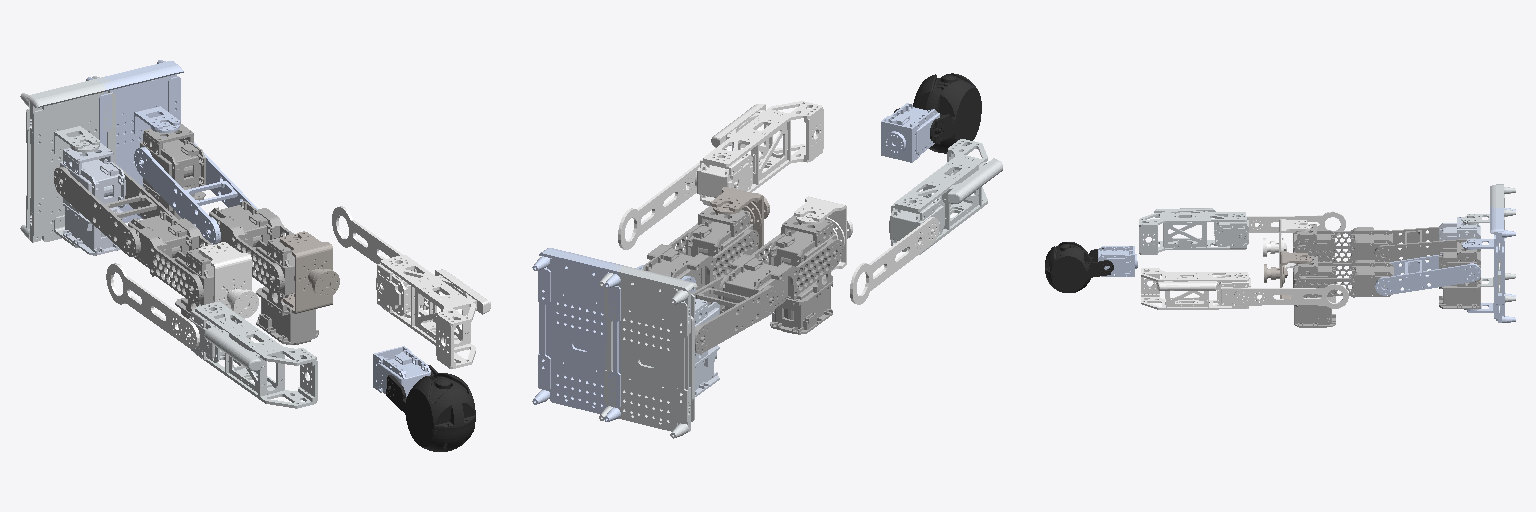
--- What the picture shows (computed from the rendered views, not written in the file) ---
3 views of the same robot in one strip: view 1: azimuth 30°, elevation 25°; view 2: azimuth 150°, elevation 25°; view 3: azimuth 270°, elevation 25° (orthographic).
Model dancer_urdf_model with 19 links and 18 joints (18 continuous), rooted at body_chest, posed all joints at 0.
Links seen in each view (by area): view 1: foot2_right, arm_left, arm_right, foot2_left, body_head2, foot1_right, leg_right, leg2_right, leg2_left, leg_left, body_hip2_left, body_hip_left (+6 smaller); view 2: foot2_right, foot2_left, arm_left, arm_right, body_hip2_right, leg_right, body_head2, leg2_right, leg_left, body_head, hand_right, body_hip2_left (+4 smaller); view 3: arm_right, arm_left, leg2_left, body_head2, foot2_left, leg_left, leg2_right, foot1_left, body_hip2_left, leg_right, hand_left, foot2_right (+6 smaller).
Boxes of the visible links, left/top/right/bottom form: foot2_right: left=20, top=76, right=115, bottom=247; arm_left: left=376, top=255, right=490, bottom=368; arm_right: left=189, top=302, right=317, bottom=408; foot2_left: left=86, top=60, right=183, bottom=222; body_head2: left=386, top=365, right=475, bottom=451; foot1_right: left=60, top=143, right=125, bottom=255; leg_right: left=128, top=212, right=212, bottom=302; leg2_right: left=54, top=162, right=177, bottom=256; leg2_left: left=134, top=142, right=257, bottom=244; leg_left: left=209, top=201, right=293, bottom=292; body_hip2_left: left=256, top=233, right=318, bottom=344; body_hip_left: left=280, top=231, right=339, bottom=313; foot2_right: left=599, top=264, right=697, bottom=438; foot2_left: left=532, top=248, right=625, bottom=421; arm_left: left=697, top=101, right=823, bottom=205; arm_right: left=889, top=139, right=1002, bottom=254; body_hip2_right: left=769, top=215, right=835, bottom=334; leg_right: left=723, top=233, right=841, bottom=310; body_head2: left=894, top=73, right=981, bottom=153; leg2_right: left=691, top=275, right=778, bottom=353; leg_left: left=642, top=223, right=758, bottom=289; body_head: left=881, top=103, right=939, bottom=162; hand_right: left=850, top=217, right=938, bottom=304; body_hip2_left: left=686, top=206, right=752, bottom=313; arm_right: left=1139, top=208, right=1248, bottom=254; arm_left: left=1141, top=268, right=1250, bottom=309; leg2_left: left=1375, top=254, right=1480, bottom=295; body_head2: left=1045, top=242, right=1113, bottom=292; foot2_left: left=1462, top=206, right=1515, bottom=322; leg_left: left=1294, top=260, right=1393, bottom=297; leg2_right: left=1374, top=227, right=1480, bottom=261; foot1_left: left=1439, top=242, right=1480, bottom=308; body_hip2_left: left=1294, top=256, right=1335, bottom=327; leg_right: left=1293, top=227, right=1392, bottom=262; hand_left: left=1234, top=284, right=1348, bottom=308; foot2_right: left=1462, top=184, right=1515, bottom=302.
Size in the robot's own frame: 0.2718 by 0.692 by 0.1687 metres.
18 mesh visuals loaded from 19 distinct referenced files (18 binary STL); not drawn: 1 (reference not matched to a file when rendering).

URDF robot description (dancer_urdf_model):
<?xml version = "1.0" encoding="utf-8"?>
<robot
  name="dancer_urdf_model">
<!-- root link -->
  <!-- <link 
    name="world_link">
  </link>
  <joint
    name="joint_world" 
    type="continuous">
    <parent 
      link="world_link"/>
    <child 
      link="body_chest"/>
    <axis
      xyz="0 0 1" />
  </joint> -->
<!-- body -->
  <link
    name="body_chest">
    <inertial>
      <!-- <origin
        xyz="-0.39529 -0.25795 -0.0041722"
        rpy="0 0 0" />
      <mass
        value="0.66907" /> -->
      <!-- <inertia
        ixx="0.0010789"
        ixy="-2.1492E-06"
        ixz="-1.1578E-06"
        iyy="0.0012519"
        iyz="0.00017837"
        izz="0.0014192" /> -->
      <!-- <inertia
        ixx="0.001448202015"
        ixy="0"
        ixz="0"
        iyy="0.000913481271"
        iyz="0"
        izz="0.001648722294" /> -->
      <origin
        xyz="-0.616313494681162 -0.215606025502619 0.218328112191186"
        rpy="0 0 0" />
      <!-- <mass
        value="0.882484739618511" /> -->
      <mass
        value="0.088248473961851" />
      <inertia
        ixx="0.00046279697033304"
        ixy="-1.29208732985506E-06"
        ixz="3.13480143442607E-08"
        iyy="0.000569939112981271"
        iyz="-3.23018574616647E-06"
        izz="0.000627101614709985" />
    </inertial>
    <visual>
      <origin
        xyz="0 0 0"
        rpy="0 0 0" />
      <geometry>
        <mesh
          filename="./meshes/body_chest.STL" />
      </geometry>
      <material
        name="">
        <color
          rgba="0.75288 0.75288 0.75288 1" />
      </material>
    </visual>
    <collision>
      <origin
        xyz="0 0 0"
        rpy="0 0 0" />
      <geometry>
        <mesh
          filename="./meshes/body_chest.STL" />
      </geometry>
    </collision>
  </link>
  <link
    name="body_head">
    <inertial>
      <!-- <origin
        xyz="-0.000351851554432403 -0.0159432418124996 -6.20136945961303E-09"
        rpy="0 0 0" />
      <mass
        value="0.0560380421735799" /> -->
      <!-- <inertia
        ixx="6.80542660516315E-06"
        ixy="2.52790190769969E-07"
        ixz="2.16353945279601E-13"
        iyy="1.50295053154063E-06"
        iyz="1.49161003758429E-12"
        izz="8.30837713670273E-06" /> -->
      <!-- <inertia
        ixx="1.7946036e-05"
        ixy="0"
        ixz="0"
        iyy="1.471574952e-05"
        iyz="0"
        izz="1.471574952e-05" /> -->
      <origin
        xyz="0.000414526290536621 5.46344108842689E-09 0.032686211294751"
        rpy="0 0 0" />
      <mass
        value="0.05496" />
      <inertia
        ixx="1.15560765805171E-05"
        ixy="-6.37698448820114E-12"
        ixz="8.72982482484381E-08"
        iyy="1.38245262746023E-05"
        iyz="-6.32904633697489E-12"
        izz="1.00312989309914E-05" />
    </inertial>
    <visual>
      <origin
        xyz="0 0 0"
        rpy="0 0 0" />
      <geometry>
        <mesh
          filename="./meshes/body_head.STL" />
      </geometry>
      <material
        name="">
        <color
          rgba="0.86667 0.90983 1 1" />
      </material>
    </visual>
    <collision>
      <origin
        xyz="0 0 0"
        rpy="0 0 0" />
      <geometry>
        <mesh
          filename="./meshes/body_head.STL" />
      </geometry>
    </collision>
  </link>
  <joint
    name="joint_body_head"
    type="continuous">
    <!-- <origin
      xyz="-0.39482 -0.32209 -0.014452"
      rpy="2.6872 -0.050522 -3.1169" /> -->
    <origin
      xyz="-0.615612428513425 -0.285967486211966 0.20056776073696"
      rpy="1.5707963267949 0 0" />
    <parent
      link="body_chest" />
    <child
      link="body_head" />
    <!-- <axis
      xyz="0 1 0" /> -->
    <axis
      xyz="0.0149998112887428 0 0.999887496502132" />
    <dynamics
      damping="0.0"
      friction="0.0" />
  </joint>
  <link
    name="body_head2">
    <inertial>
      <!-- <origin
        xyz="-0.020399 -0.025987 -0.047171"
        rpy="0 0 0" />
      <mass
        value="0.067365" /> -->
      <!-- <inertia
        ixx="2.0873E-05"
        ixy="2.2756E-10"
        ixz="9.0633E-10"
        iyy="6.1663E-06"
        iyz="-4.8418E-06"
        izz="1.4707E-05" /> -->
      <!-- <inertia
        ixx="2.4255387e-05"
        ixy="0"
        ixz="0"
        iyy="3.3584382e-05"
        iyz="0"
        izz="2.4255387e-05" /> -->
      <origin
        xyz="-0.0496692849997094 -0.00262565458459788 0.0523169063751714"
        rpy="0 0 0" />
      <mass
        value="0.0803703275300652" />
      <inertia
        ixx="3.64947790343948E-05"
        ixy="3.45134666590487E-08"
        ixz="-2.25159079858521E-07"
        iyy="4.52013276356543E-05"
        iyz="3.25342165484819E-06"
        izz="2.12016157986899E-05" />
    </inertial>
    <visual>
      <origin
        xyz="0 0 0"
        rpy="0 0 0" />
      <geometry>
        <mesh
          filename="./meshes/body_head2.STL" />
      </geometry>
      <material
        name="">
        <color
          rgba="0.25098 0.25098 0.25098 1" />
      </material>
    </visual>
    <collision>
      <origin
        xyz="0 0 0"
        rpy="0 0 0" />
      <geometry>
        <mesh
          filename="./meshes/body_head2.STL" />
      </geometry>
    </collision>
  </link>
  <joint
    name="joint_body_head2"
    type="continuous">
    <!-- <origin
      xyz="0.02015 -0.031182 0"
      rpy="-1.1164 0 0" /> -->
    <origin
      xyz="0.0507513535336471 0 0.0497102139820205"
      rpy="0 0 0" />
    <parent
      link="body_head" />
    <child
      link="body_head2" />
    <!-- <axis
      xyz="-1 0 0" /> -->
    <axis
      xyz="0.999887496502133 0 -0.0149998112887384" />
    <dynamics
      damping="0.0"
      friction="0.0" />
  </joint>
  <link
    name="arm_left">
    <inertial>
      <!-- <origin
        xyz="0.00185814795587239 -0.0815728051955473 0.0294005743652034"
        rpy="0 0 0" />
      <mass
        value="0.142976459032186" /> -->
      <!-- <inertia
        ixx="0.000249420588469075"
        ixy="7.32525652321763E-06"
        ixz="7.10318603096419E-06"
        iyy="5.00248806790026E-05"
        iyz="-1.63332458191431E-05"
        izz="0.000260415991235315" /> -->
      <!-- <inertia
        ixx="0.000347545773"
        ixy="0"
        ixz="0"
        iyy="8.5696218e-05"
        iyz="0"
        izz="0.000347545773" /> -->
      <origin
        xyz="-0.0330847414453067 0.00188579224537025 -0.0802758177228025"
        rpy="0 0 0" />
      <mass
        value="0.140880460038681" />
      <inertia
        ixx="0.000120172742185719"
        ixy="-1.59278019073766E-07"
        ixz="5.25020978487963E-06"
        iyy="0.000123100393049993"
        iyz="2.41797266022087E-09"
        izz="2.05665605944976E-05" />
    </inertial>
    <visual>
      <origin
        xyz="0 0 0"
        rpy="0 0 0" />
      <geometry>
        <mesh
          filename="./meshes/arm_left.STL" />
      </geometry>
      <material
        name="">
        <color
          rgba="1 1 1 1" />
      </material>
    </visual>
    <collision>
      <origin
        xyz="0 0 0"
        rpy="0 0 0" />
      <geometry>
        <mesh
          filename="./meshes/arm_left.STL" />
      </geometry>
    </collision>
  </link>
  <joint
    name="joint_arm_left"
    type="continuous">
    <!-- <origin
      xyz="-0.46902 -0.2921 0.00017561"
      rpy="-1.5708 1.09187 1.5708" /> -->
      <!--rpy="-1.5708 -0.59813 1.5708" put 1.69 into p-->
    <origin
      xyz="-0.480637621395787 -0.270857071736484 0.200567760736966"
      rpy="1.5707963267949 0 0" />
    <parent
      link="body_chest" />
    <child
      link="arm_left" />
    <!-- <axis
      xyz="0 0 1" /> -->
    <axis
      xyz="0.999887496502133 0 -0.0149998112887317" />
    <dynamics
      damping="0.0"
      friction="0.0" />
  </joint>
  <link
    name="hand_left">
    <inertial>
      <!-- <origin
        xyz="-0.00150000000000006 0.0513998176588075 -0.0471166731147821"
        rpy="0 0 0" />
      <mass
        value="0.021948273112724" /> -->
      <!-- <inertia
        ixx="0"
        ixy="0"
        ixz="0"
        iyy="0"
        iyz="0"
        izz="0" /> -->
      <!-- <inertia
        ixx="7.5982608e-05"
        ixy="0"
        ixz="0"
        iyy="3.1050585e-06"
        iyz="0"
        izz="7.32428505e-05" /> -->
      <origin
        xyz="-0.00479785812890254 -7.54951656745106E-15 -0.0635843345452896"
        rpy="0 0 0" />
      <mass
        value="0.0240442691962686" />
      <inertia
        ixx="5.18779346882441E-05"
        ixy="3.23558452235391E-20"
        ixz="-7.49042003282551E-07"
        iyy="4.9981652173878E-05"
        iyz="1.76589230995525E-18"
        izz="1.9581507829635E-06" />
    </inertial>
    <visual>
      <origin
        xyz="0 0 0"
        rpy="0 0 0" />
      <geometry>
        <mesh
          filename="./meshes/hand_left.STL" />
      </geometry>
      <material
        name="">
        <color
          rgba="1 1 1 1" />
      </material>
    </visual>
    <collision>
      <origin
        xyz="0 0 0"
        rpy="0 0 0" />
      <geometry>
        <mesh
          filename="./meshes/hand_left.STL" />
      </geometry>
    </collision>
  </link>
  <joint
    name="joint_hand_left"
    type="continuous">
    <!-- <origin
      xyz="0 -0.136 0.05255"
      rpy="-2.36187 -1.5708 0" /> -->
      <!--rpy="0.59813 -1.5708 0" put -2.96 into r-->
    <origin
      xyz="-0.00831303371965708 0 -0.135890594230151"
      rpy="0 0 0" />
    <parent
      link="arm_left" />
    <child
      link="hand_left" />
    <!-- <axis
      xyz="1 0 0" /> -->
    <axis
      xyz="0.999887496502131 0 -0.0149998112888278" />
    <dynamics
      damping="0.0"
      friction="0.0" />
  </joint>
  <link
    name="arm_right">
    <inertial>
      <!-- <origin
        xyz="0.00187545595097149 -0.0810657497418857 0.0317817660201292"
        rpy="0 0 0" />
      <mass
        value="0.141656759847187" /> -->
      <!-- <inertia
        ixx="0.000244964545549609"
        ixy="7.19058779167484E-06"
        ixz="-7.15162953626525E-06"
        iyy="4.95100328023302E-05"
        iyz="1.49143124694347E-05"
        izz="0.000256465619549068" /> -->
      <!-- <inertia
        ixx="0.000347545773"
        ixy="0"
        ixz="0"
        iyy="8.5696218e-05"
        iyz="0"
        izz="0.000347545773" /> -->
      <origin
        xyz="-0.030307333521772 0.00188579156361365 -0.0803174776823527"
        rpy="0 0 0" />
      <mass
        value="0.140880462107965" />
      <inertia
        ixx="0.000119768286367428"
        ixy="1.59272773011466E-07"
        ixz="-8.22722138877276E-06"
        iyy="0.000123100386580979"
        iyz="-2.37793470819043E-09"
        izz="2.09710170767841E-05" />
    </inertial>
    <visual>
      <origin
        xyz="0 0 0"
        rpy="0 0 0" />
      <geometry>
        <mesh
          filename="./meshes/arm_right.STL" />
      </geometry>
      <material
        name="">
        <color
          rgba="0.89875 0.91729 0.92982 1" />
      </material>
    </visual>
    <collision>
      <origin
        xyz="0 0 0"
        rpy="0 0 0" />
      <geometry>
        <mesh
          filename="./meshes/arm_right.STL" />
      </geometry>
    </collision>
  </link>
  <joint
    name="joint_arm_right"
    type="continuous">
    <!-- <origin
      xyz="-0.25942 -0.2921 0.00017561"
      rpy="-1.5708 1.0973 1.5708" /> -->
      <!--rpy="-1.5708 1.0373 1.5708" put 0.06 into p-->
    <origin
      xyz="-0.690210517946081 -0.274000979336581 0.20056776073696"
      rpy="1.5707963267949 0 0" />
    <parent
      link="body_chest" />
    <child
      link="arm_right" />
    <!-- <axis
      xyz="0 0 1" /> -->
    <axis
      xyz="0.999887496502132 0 -0.0149998112887528" />
    <dynamics
      damping="0.0"
      friction="0.0" />
  </joint>
  <link
    name="hand_right">
    <inertial>
      <!-- <origin
        xyz="-0.00150000000000061 -0.0550818675496146 -0.0427540642279834"
        rpy="0 0 0" />
      <mass
        value="0.021948273112724" /> -->
      <!-- <inertia
        ixx="0"
        ixy="0"
        ixz="0"
        iyy="0"
        iyz="0"
        izz="0" /> -->
      <!-- <inertia
        ixx="7.5982608e-05"
        ixy="0"
        ixz="0"
        iyy="3.1050585e-06"
        iyz="0"
        izz="7.32428505e-05" /> -->
      <origin
        xyz="-0.00469304011310134 1.65145674912992E-14 -0.0672826860647183"
        rpy="0 0 0" />
      <mass
        value="0.0227245679584811" />
      <inertia
        ixx="5.18047025522023E-05"
        ixy="3.31301055921671E-19"
        ixz="-7.48520829858133E-07"
        iyy="4.99429963653671E-05"
        iyz="2.1798867900886E-17"
        izz="1.9194835923031E-06" />
    </inertial>
    <visual>
      <origin
        xyz="0 0 0"
        rpy="0 0 0" />
      <geometry>
        <mesh
          filename="./meshes/hand_right.STL" />
      </geometry>
      <material
        name="">
        <color
          rgba="1 1 1 1" />
      </material>
    </visual>
    <collision>
      <origin
        xyz="0 0 0"
        rpy="0 0 0" />
      <geometry>
        <mesh
          filename="./meshes/hand_right.STL" />
      </geometry>
    </collision>
  </link>
  <joint
    name="joint_hand_right"
    type="continuous">
    <!-- <origin
      xyz="0 -0.136 0.00845"
      rpy="-0.6557 1.5708 0" /> -->
      <!--rpy="2.1043 1.5708 0" put -2.76 into r-->
    <origin
      xyz="-0.0493202167072464 0 -0.135275425015181"
      rpy="0 0 0" />
    <parent
      link="arm_right" />
    <child
      link="hand_right" />
    <!-- <axis
      xyz="1 0 0" /> -->
    <axis
      xyz="0.999887496502134 0 -0.0149998112886474" />
    <dynamics
      damping="0.0"
      friction="0.0" />
  </joint>
  <!-- <link
    name="body_hip">
    <inertial>
      <origin
        xyz="0.000157245394557526 0.0183365350270815 0.0512514015755213"
        rpy="0 0 0" />
      <mass
        value="0.220741166410594" /> -->
      <!-- <inertia
        ixx="4.99532905906753E-05"
        ixy="-8.8425558025927E-07"
        ixz="4.63751185231834E-07"
        iyy="0.000349635027414184"
        iyz="-8.11153973374568E-06"
        izz="0.000393338670951652" /> -->
      <!-- <inertia
        ixx="4.59415125e-05"
        ixy="0"
        ixz="0"
        iyy="0.00014701284"
        iyz="0"
        izz="0.0001341492165" />
    </inertial>
    <visual>
      <origin
        xyz="0 0 0"
        rpy="0 0 0" />
      <geometry>
        <mesh
          filename="./meshes/body_hip.STL" />
      </geometry>
      <material
        name="">
        <color
          rgba="0.752941176470588 0.752941176470588 0.752941176470588 1" />
      </material>
    </visual>
    <collision>
      <origin
        xyz="0 0 0"
        rpy="0 0 0" />
      <geometry>
        <mesh
          filename="./meshes/body_hip.STL" />
      </geometry>
    </collision>
  </link> -->
  <!-- <joint
    name="joint_body_hip"
    type="continuous">
    <origin
      xyz="-0.39482 -0.11668 0.01337"
      rpy="-0.45379 0 -3.1416" />
    <parent
      link="body_chest" />
    <child
      link="body_hip" />
    <axis
      xyz="0 1 0" />
    <dynamics
      damping="0.0"
      friction="0.0" />
  </joint> -->
  <link
    name="body_hip_left">
    <inertial>
      <!-- <origin
        xyz="0.020727573256466 0.00401171130451616 -0.000185064805642399"
        rpy="0 0 0" />
      <mass
        value="0.0513468076618724" /> -->
      <!-- <inertia
        ixx="5.53880436537222E-07"
        ixy="9.93497455590853E-07"
        ixz="-4.44878455701968E-08"
        iyy="5.30575756787479E-06"
        iyz="-2.18432738949885E-09"
        izz="5.33896357399273E-06" /> -->
      <!-- <inertia
        ixx="3.419244e-05"
        ixy="0"
        ixz="0"
        iyy="1.3676976e-05"
        iyz="0"
        izz="3.419244e-05" /> -->
      <origin
        xyz="0.000945067783106102 -0.00416671476409239 0.0629976565509531"
        rpy="0 0 0" />
      <mass
        value="0.0606904859381705" />
      <inertia
        ixx="3.05254383377384E-05"
        ixy="1.39836208317736E-09"
        ixz="-1.28861971999565E-09"
        iyy="1.17463917453059E-05"
        iyz="9.419363591995E-08"
        izz="3.04400866114059E-05" />
    </inertial>
    <visual>
      <origin
        xyz="0 0 0"
        rpy="0 0 0" />
      <geometry>
        <mesh
          filename="./meshes/body_hip_left.STL" />
      </geometry>
      <material
        name="">
        <color
          rgba="0.77694 0.75639 0.73784 1" />
      </material>
    </visual>
    <collision>
      <origin
        xyz="0 0 0"
        rpy="0 0 0" />
      <geometry>
        <mesh
          filename="./meshes/body_hip_left.STL" />
      </geometry>
    </collision>
  </link>
  <joint
    name="joint_body_hip_left"
    type="continuous">
    <!-- <origin
      xyz="0.045 -0.0122 0.065"
      rpy="1.6008 0 -1.5708" /> -->
      <!--rpy="1.5708 0 -1.5708" put 0.03 into r-->
    <origin
      xyz="-0.574767957608413 -0.00862238094696859 0.200607760736968"
      rpy="1.5707963267949 0 0" />
    <parent
      link="body_chest" />
    <child
      link="body_hip_left" />
    <!-- <axis
      xyz="-1 0 0" /> -->
    <axis
      xyz="0.0149998112887428 0 0.999887496502133" />
    <dynamics
      damping="0.0"
      friction="0.0" />
  </joint>
  <link
    name="body_hip2_left">
    <inertial>
      <!-- <origin
        xyz="-0.05214771499803 -0.0126151296156827 0.000799339990500914"
        rpy="0 0 0" />
      <mass
        value="0.178226116015845" /> -->
      <!-- <inertia
        ixx="1.31915893268092E-05"
        ixy="1.10728342854583E-05"
        ixz="-3.64501965445685E-07"
        iyy="0.00014636948190844"
        iyz="4.48899648606397E-07"
        izz="0.000142732199426348" /> -->
      <!-- <inertia
        ixx="4.7477808e-05"
        ixy="0"
        ixz="0"
        iyy="0.00011869452"
        iyz="0"
        izz="0.00011869452" /> -->
      <origin
        xyz="-2.28435030289464E-05 -0.0309433797840232 -0.0141527835068525"
        rpy="0 0 0" />
      <mass
        value="0.159177872474359" />
      <inertia
        ixx="5.36133737563341E-05"
        ixy="-5.96397221650733E-21"
        ixz="2.02453010024122E-07"
        iyy="5.43148029796541E-05"
        iyz="-2.14841517470244E-07"
        izz="3.27173793791275E-05" />
    </inertial>
    <visual>
      <origin
        xyz="0 0 0"
        rpy="0 0 0" />
      <geometry>
        <mesh
          filename="./meshes/body_hip2_left.STL" />
      </geometry>
      <material
        name="">
        <color
          rgba="0.75288 0.75288 0.75288 1" />
      </material>
    </visual>
    <collision>
      <origin
        xyz="0 0 0"
        rpy="0 0 0" />
      <geometry>
        <mesh
          filename="./meshes/body_hip2_left.STL" />
      </geometry>
    </collision>
  </link>
  <joint
    name="joint_body_hip2_left"
    type="continuous">
    <!-- <origin
      xyz="0.0493 0.033966 -0.0015267"
      rpy="3.1698 0.044917 1.5708" /> -->
      <!--rpy="3.0498 0.044917 1.5708" put -0.14 into -r-->
    <origin
      xyz="0.000579999589308322 0 0.038662775562355"
      rpy="0 0 0" />
    <parent
      link="body_hip_left" />
    <child
      link="body_hip2_left" />
    <!-- <axis
      xyz="-1 0 0" /> -->
    <axis
      xyz="0 1 0" />
    <dynamics
      damping="0.0"
      friction="0.0" />
  </joint>
  <link
    name="leg_left">
    <inertial>
      <!-- <origin
        xyz="-0.0239762815919513 0.0733271184441349 -0.0492320368464383"
        rpy="0 0 0" />
      <mass
        value="0.117898503490257" /> -->
      <!-- <inertia
        ixx="8.19638344105388E-05"
        ixy="4.15735753169954E-07"
        ixz="-3.08942552253119E-07"
        iyy="5.79765950100758E-05"
        iyz="-3.98771822899511E-05"
        izz="7.68071497117597E-05" /> -->
      <!-- <inertia
        ixx="0.000427905333"
        ixy="0"
        ixz="0"
        iyy="7.0663266e-05"
        iyz="0"
        izz="0.000427905333" /> -->
      <origin
        xyz="-0.0116252060739156 0.00120888924666671 -0.0786191617254281"
        rpy="0 0 0" />
      <mass
        value="0.11789850487658" />
      <inertia
        ixx="7.43113045276454E-05"
        ixy="-2.26804392296794E-12"
        ixz="-2.02457513575927E-07"
        iyy="7.40607882060034E-05"
        iyz="5.48826459972443E-06"
        izz="2.08105251807748E-05" />
    </inertial>
    <visual>
      <origin
        xyz="0 0 0"
        rpy="0 0 0" />
      <geometry>
        <mesh
          filename="./meshes/leg_left.STL" />
      </geometry>
      <material
        name="">
        <color
          rgba="0.75288 0.75288 0.75288 1" />
      </material>
    </visual>
    <collision>
      <origin
        xyz="0 0 0"
        rpy="0 0 0" />
      <geometry>
        <mesh
          filename="./meshes/leg_left.STL" />
      </geometry>
    </collision>
  </link>
  <joint
    name="joint_leg_left"
    type="continuous">
    <!-- <origin
      xyz="-0.034 0.0013682 0.024061"
      rpy="-1.0064 -1.514 1.5708" /> -->
      <!--rpy="-2.6864 -1.514 1.5708" /> put -1.68 into r-->
    <origin
      xyz="0.0117489242262162 -0.0103000000000123 0"
      rpy="0 0 0" />
    <parent
      link="body_hip2_left" />
    <child
      link="leg_left" />
    <!-- <axis
      xyz="-1 0 0" /> -->
    <axis
      xyz="1 0 0" />
    <dynamics
      damping="0.0"
      friction="0.0" />
  </joint>
  <link
    name="leg2_left">
    <inertial>
      <!-- <origin
        xyz="-0.0235000000000001 0.0561541813174893 0.0270927391440708"
        rpy="0 0 0" />
      <mass
        value="0.0278306854029525" /> -->
      <!-- <inertia
        ixx="2.00646228342237E-06"
        ixy="1.74773182168739E-20"
        ixz="-1.11173074327127E-21"
        iyy="1.45608552327633E-05"
        iyz="-5.34162892350515E-08"
        izz="1.65644713873633E-05" /> -->
      <!-- <inertia
        ixx="0.000101014551"
        ixy="0"
        ixz="0"
        iyy="1.6681302e-05"
        iyz="0"
        izz="0.000101014551" /> -->
      <origin
        xyz="-0.0620521617566315 0.0116999543672374 -0.0623319986115592"
        rpy="0 0 0" />
      <mass
        value="0.0468789275178147" />
      <inertia
        ixx="4.61873372876244E-05"
        ixy="4.73015151731043E-12"
        ixz="-7.49486610184811E-12"
        iyy="4.39066187165455E-05"
        iyz="6.93235154853255E-06"
        izz="4.78336189725116E-06" />
    </inertial>
    <visual>
      <origin
        xyz="0 0 0"
        rpy="0 0 0" />
      <geometry>
        <mesh
          filename="./meshes/leg2_left.STL" />
      </geometry>
      <material
        name="">
        <color
          rgba="0.86667 0.90927 1 1" />
      </material>
    </visual>
    <collision>
      <origin
        xyz="0 0 0"
        rpy="0 0 0" />
      <geometry>
        <mesh
          filename="./meshes/leg2_left.STL" />
      </geometry>
    </collision>
  </link>
  <joint
    name="joint_leg2_left"
    type="continuous">
    <!-- <origin
      xyz="-0.0006 0.098703 -0.068248"
      rpy="-1.05 0 0" /> -->
      <!--rpy="0 0 0" put 1.05 into r-->
    <origin
      xyz="0.0499806689582331 0 -0.120000000000317"
      rpy="0 0 0" />
    <parent
      link="leg_left" />
    <child
      link="leg2_left" />
    <!-- <axis
      xyz="-1 0 0" /> -->
    <axis
      xyz="1 0 0" />
    <dynamics
      damping="0.0"
      friction="0.0" />
  </joint>
  <link
    name="foot1_left">
    <inertial>
      <!-- <origin
        xyz="-0.0240177949022405 -0.00952681182363596 -0.0183477774983369"
        rpy="0 0 0" />
      <mass
        value="0.177450614870689" /> -->
      <!-- <inertia
        ixx="0.000125001022397629"
        ixy="1.93552642868024E-07"
        ixz="2.77490556714786E-07"
        iyy="0.000127562548065075"
        iyz="-1.29579673929925E-05"
        izz="1.38118491262305E-05" /> -->
      <!-- <inertia
        ixx="0.0001181817"
        ixy="0"
        ixz="0"
        iyy="0.000147727125"
        iyz="0"
        izz="7.6818105e-05" /> -->
      <origin
        xyz="-0.0530989934891989 -0.0175901755307813 0.0141878018170923"
        rpy="0 0 0" />
      <mass
        value="0.158402372500407" />
      <inertia
        ixx="5.3375881657705E-05"
        ixy="-3.54984559877132E-21"
        ixz="-2.02463791844223E-07"
        iyy="5.42458702551359E-05"
        iyz="-1.9007867850504E-07"
        izz="3.2547948310614E-05" />
    </inertial>
    <visual>
      <origin
        xyz="0 0 0"
        rpy="0 0 0" />
      <geometry>
        <mesh
          filename="./meshes/foot1_left.STL" />
      </geometry>
      <material
        name="">
        <color
          rgba="0.75288 0.75288 0.75288 1" />
      </material>
    </visual>
    <collision>
      <origin
        xyz="0 0 0"
        rpy="0 0 0" />
      <geometry>
        <mesh
          filename="./meshes/foot1_left.STL" />
      </geometry>
    </collision>
  </link>
  <joint
    name="joint_foot1_left"
    type="continuous">
    <!-- <origin
      xyz="0.0006 0.11852 0.05341"
      rpy="0.41 0 0" /> -->
      <!--rpy="0 0 0" put -0.19 into -r-->
    <origin
      xyz="-0.0102535550345806 0.0220306418254577 -0.128119673824045"
      rpy="0 0 0" />
    <parent
      link="leg2_left" />
    <child
      link="foot1_left" />
    <!-- <axis
      xyz="-1 0 0" /> -->
    <axis
      xyz="1 0 0" />
    <dynamics
      damping="0.0"
      friction="0.0" />
  </joint>
  <link
    name="foot2_left">
    <inertial>
      <!-- <origin
        xyz="0.00686471247682141 -0.0384681270411728 0.0369568564087829"
        rpy="0 0 0" />
      <mass
        value="0.13465253780049" /> -->
      <!-- <inertia
        ixx="0.000175278373031919"
        ixy="-2.54500802762497E-06"
        ixz="-1.92782216931443E-06"
        iyy="0.00022389365941899"
        iyz="3.30376832465257E-06"
        izz="6.63305590940042E-05" /> -->
      <!-- <inertia
        ixx="0.000919188225"
        ixy="0"
        ixz="0"
        iyy="0.00132721812"
        iyz="0"
        izz="0.000488739105" /> -->
      <!-- <origin
        xyz="-0.582199195289208 0.211126147361554 -0.236761477035537"
        rpy="0 0 0" /> -->
      <origin
        xyz="-0.00641123727010962 0.0305388205728046 -0.0359269597204822"
        rpy="0 0 0" />
      <mass
        value="0.14417666873715" />
      <inertia
        ixx="0.000141494770501712"
        ixy="1.84880295385669E-12"
        ixz="-9.12447801802343E-12"
        iyy="5.06452586250787E-05"
        iyz="-3.33958900997396E-07"
        izz="0.000183701625816014" />
    </inertial>
    <visual>
      <origin
        xyz="0 0 0"
        rpy="0 0 0" />
      <geometry>
        <mesh
          filename="./meshes/foot2_left.STL" />
      </geometry>
      <material
        name="">
        <color
          rgba="0.86667 0.90927 1 1" />
      </material>
    </visual>
    <collision>
      <origin
        xyz="0 0 0"
        rpy="0 0 0" />
      <geometry>
        <mesh
          filename="./meshes/foot2_left.STL" />
      </geometry>
    </collision>
  </link>
  <joint
    name="joint_foot2_left"
    type="continuous">
    <!-- <origin
      xyz="-0.0241 -0.0065502 0.035907"
      rpy="-2.9765 -0.0132 0.03369" /> -->
      <!--rpy="-2.9765 -0.0732 0.41369" put 0.41 into p-->
    <origin
      xyz="-0.0530760381498626 -0.031751075773801 0"
      rpy="0 0 0" />
    <parent
      link="foot1_left" />
    <child
      link="foot2_left" />
    <!-- <axis
      xyz="0 0 1" /> -->
    <axis
      xyz="0 1 0" />
    <dynamics
      damping="0.0"
      friction="0.0" />
  </joint>
  <link
    name="body_hip_right">
    <inertial>
      <!-- <origin
        xyz="0.00360506662341747 0.00176962459685462 0.0179275732564661"
        rpy="0 0 0" />
      <mass
        value="0.0513468076618724" /> -->
      <!-- <inertia
        ixx="5.31161382984344E-06"
        ixy="1.28428405213891E-08"
        ixz="8.92145319107081E-07"
        iyy="5.33310731202415E-06"
        iyz="4.39423590928376E-07"
        izz="5.5388043653725E-07" /> -->
      <!-- <inertia
        ixx="3.419244e-05"
        ixy="0"
        ixz="0"
        iyy="1.3676976e-05"
        iyz="0"
        izz="3.419244e-05" /> -->
      <origin
        xyz="0.000907183709312309 0.00424992243988156 0.0604701704492792"
        rpy="0 0 0" />
      <mass
        value="0.0606904859337575" />
      <inertia
        ixx="3.05254258936741E-05"
        ixy="-1.42567647782977E-09"
        ixz="-1.28614118753563E-09"
        iyy="1.17463917445773E-05"
        iyz="-9.41881356880309E-08"
        izz="3.04400990563153E-05" />
    </inertial>
    <visual>
      <origin
        xyz="0 0 0"
        rpy="0 0 0" />
      <geometry>
        <mesh
          filename="./meshes/body_hip_right.STL" />
      </geometry>
      <material
        name="">
        <color
          rgba="1 1 1 1" />
      </material>
    </visual>
    <collision>
      <origin
        xyz="0 0 0"
        rpy="0 0 0" />
      <geometry>
        <mesh
          filename="./meshes/body_hip_right.STL" />
      </geometry>
    </collision>
  </link>
  <joint
    name="joint_body_hip_right"
    type="continuous">
    <!-- <origin
      xyz="-0.045 -0.015 0.065"
      rpy="1.5708 -1.1184 0" /> -->
      <!--rpy="1.5708 -1.0684 0" put 0.05 into p-->
    <origin
      xyz="-0.664719916505049 -0.0124998306201608 0.20060776073697"
      rpy="1.5707963267949 0 0" />
    <parent
      link="body_chest" />
    <child
      link="body_hip_right" />
    <!-- <axis
      xyz="0 0 1" /> -->
    <axis
      xyz="0.0149998112887428 0 0.999887496502133" />
    <dynamics
      damping="0.0"
      friction="0.0" />
  </joint>
  <link
    name="body_hip2_right">
    <inertial>
      <!-- <origin
        xyz="-0.05274771645541 -0.00922434933235092 0.00864247622548692"
        rpy="0 0 0" />
      <mass
        value="0.178226118022815" /> -->
      <!-- <inertia
        ixx="1.31914879715377E-05"
        ixy="8.31106180167271E-06"
        ixz="-7.32576193940501E-06"
        iyy="0.000144456519354766"
        iyz="1.87090627339956E-06"
        izz="0.000144645044815494" /> -->
      <!-- <inertia
        ixx="4.7477808e-05"
        ixy="0"
        ixz="0"
        iyy="0.00011869452"
        iyz="0"
        izz="0.00011869452" /> -->
      <origin
        xyz="-2.2843503021619E-05 -0.020643379783998 -0.0141527835068197"
        rpy="0 0 0" />
      <mass
        value="0.159177872474359" />
      <inertia
        ixx="5.3613373756334E-05"
        ixy="1.1123428892363E-20"
        ixz="2.0245301002463E-07"
        iyy="5.43148029796541E-05"
        iyz="-2.14841517470345E-07"
        izz="3.27173793791274E-05" />
    </inertial>
    <visual>
      <origin
        xyz="0 0 0"
        rpy="0 0 0" />
      <geometry>
        <mesh
          filename="./meshes/body_hip2_right.STL" />
      </geometry>
      <material
        name="">
        <color
          rgba="0.75288 0.75288 0.75288 1" />
      </material>
    </visual>
    <collision>
      <origin
        xyz="0 0 0"
        rpy="0 0 0" />
      <geometry>
        <mesh
          filename="./meshes/body_hip2_right.STL" />
      </geometry>
    </collision>
  </link>
  <joint
    name="joint_body_hip2_right"
    type="continuous">
    <!-- <origin
      xyz="0.031042 0.015283 0.0465"
      rpy="2.299 0 0.4575" /> -->
      <!--rpy="1.479 0 0.4575" put -0.83 into -r-->
    <origin
      xyz="0.000542083800765036 0 0.0361353089051728"
      rpy="0 0 0" />
    <parent
      link="body_hip_right" />
    <child
      link="body_hip2_right" />
    <!-- <axis
      xyz="-1 0 0" /> -->
    <axis
      xyz="0 1 0" />
    <dynamics
      damping="0.0"
      friction="0.0" />
  </joint>
  <link
    name="leg_right">
    <inertial>
      <!-- <origin
        xyz="-0.0282237184526358 -0.0161687157017971 -0.0868287422428667"
        rpy="0 0 0" />
      <mass
        value="0.117898502766572" /> -->
      <!-- <inertia
        ixx="8.19637542489574E-05"
        ixy="7.03755713098893E-08"
        ixz="5.13184590718679E-07"
        iyy="0.000107449613122845"
        iyz="8.61440649609276E-06"
        izz="2.73340514340446E-05" /> -->
      <!-- <inertia
        ixx="0.000427905333"
        ixy="0"
        ixz="0"
        iyy="0.000427905333"
        iyz="0"
        izz="7.0663266e-05" /> -->
      <origin
        xyz="0.0128726423785163 0.00120889814603442 -0.0786191832104045"
        rpy="0 0 0" />
      <mass
        value="0.11789850487658" />
      <inertia
        ixx="7.43113045276455E-05"
        ixy="3.27778988376902E-13"
        ixz="-2.02463780446535E-07"
        iyy="7.40608022516867E-05"
        iyz="5.48825055404415E-06"
        izz="2.08105111350916E-05" />
    </inertial>
    <visual>
      <origin
        xyz="0 0 0"
        rpy="0 0 0" />
      <geometry>
        <mesh
          filename="./meshes/leg_right.STL" />
      </geometry>
      <material
        name="">
        <color
          rgba="0.75288 0.75288 0.75288 1" />
      </material>
    </visual>
    <collision>
      <origin
        xyz="0 0 0"
        rpy="0 0 0" />
      <geometry>
        <mesh
          filename="./meshes/leg_right.STL" />
      </geometry>
    </collision>
  </link>
  <joint
    name="joint_leg_right"
    type="continuous">
    <!-- <origin
      xyz="-0.0346 -0.019079 -0.02063"
      rpy="0.20449 0.82443 -1.5708" /> -->
      <!--rpy="-0.34551 0.82443 -1.5708" put 0.55 into r-->
    <origin
      xyz="-0.0127489242262093 0 0"
      rpy="0 0 0" />
    <parent
      link="body_hip2_right" />
    <child
      link="leg_right" />
    <!-- <axis
      xyz="1 0 0" /> -->
    <axis
      xyz="1 0 0" />
    <dynamics
      damping="0.0"
      friction="0.0" />
  </joint>
  <link
    name="leg2_right">
    <inertial>
      <!-- <origin
        xyz="-0.0264999999999997 -0.0557112176708658 -0.0279922992874042"
        rpy="0 0 0" />
      <mass
        value="0.0278306854029525" /> -->
      <!-- <inertia
        ixx="2.00646228342255E-06"
        ixy="5.43874561476066E-19"
        ixz="3.11390487234362E-19"
        iyy="1.58713263120878E-05"
        iyz="9.54567899565275E-07"
        izz="1.52540003080386E-05" /> -->
      <!-- <inertia
        ixx="0.000101014551"
        ixy="0"
        ixz="0"
        iyy="1.6681302e-05"
        iyz="0"
        izz="0.000101014551" /> -->
      <origin
        xyz="-0.0378134938167345 0.00668575513211081 -0.0630671561255923"
        rpy="0 0 0" />
      <mass
        value="0.0468789275178147" />
      <inertia
        ixx="4.61873372876243E-05"
        ixy="7.36762713958321E-12"
        ixz="-6.14345132550088E-12"
        iyy="4.47607005070523E-05"
        iyz="3.73014655151864E-06"
        izz="3.92928010674436E-06" />
    </inertial>
    <visual>
      <origin
        xyz="0 0 0"
        rpy="0 0 0" />
      <geometry>
        <mesh
          filename="./meshes/leg2_right.STL" />
      </geometry>
      <material
        name="">
        <color
          rgba="0.75288 0.75288 0.75288 1" />
      </material>
    </visual>
    <collision>
      <origin
        xyz="0 0 0"
        rpy="0 0 0" />
      <geometry>
        <mesh
          filename="./meshes/leg2_right.STL" />
      </geometry>
    </collision>
  </link>
  <joint
    name="joint_leg2_right"
    type="continuous">
    <!-- <origin
      xyz="-0.0016 -0.020351 -0.11826"
      rpy="0.94 0 0" /> -->
      <!--rpy="0 0 0" put 0.79 into r-->
    <origin
      xyz="0.0513478626051265 0 -0.120000000000008"
      rpy="0 0 0" />
    <parent
      link="leg_right" />
    <child
      link="leg2_right" />
    <!-- <axis
      xyz="1 0 0" /> -->
    <axis
      xyz="1 0 0" />
    <dynamics
      damping="0.0"
      friction="0.0" />
  </joint>
  <link
    name="foot1_right">
    <inertial>
      <!-- <origin
        xyz="-0.0265822088686737 0.0182514148314177 0.00971017334244767"
        rpy="0 0 0" />
      <mass
        value="0.177450615338578" /> -->
      <!-- <inertia
        ixx="0.000125000929585061"
        ixy="2.75508514762772E-07"
        ixz="1.96364799986357E-07"
        iyy="1.35635016495756E-05"
        iyz="-1.18157178553736E-05"
        izz="0.000127810804117428" /> -->
      <!-- <inertia
        ixx="0.0001181817"
        ixy="0"
        ixz="0"
        iyy="0.000147727125"
        iyz="0"
        izz="7.6818105e-05" /> -->
      <origin
        xyz="-0.03862189371824 -0.0175901755307635 0.0141878018170996"
        rpy="0 0 0" />
      <mass
        value="0.158402372500407" />
      <inertia
        ixx="5.3375881657705E-05"
        ixy="4.51772963351962E-20"
        ixz="-2.02463791843962E-07"
        iyy="5.4245870255136E-05"
        iyz="-1.90078678504309E-07"
        izz="3.2547948310614E-05" />
    </inertial>
    <visual>
      <origin
        xyz="0 0 0"
        rpy="0 0 0" />
      <geometry>
        <mesh
          filename="./meshes/foot1_right.STL" />
      </geometry>
      <material
        name="">
        <color
          rgba="0.88271 0.91378 0.96441 1" />
      </material>
    </visual>
    <collision>
      <origin
        xyz="0 0 0"
        rpy="0 0 0" />
      <geometry>
        <mesh
          filename="./meshes/foot1_right.STL" />
      </geometry>
    </collision>
  </link>
  <joint
    name="joint_foot1_right"
    type="continuous">
    <!-- <origin
      xyz="0 -0.1146 -0.061382"
      rpy="-1.05 0 0" /> -->
      <!--rpy="0 0 0" put -0.83 into r-->
    <origin
      xyz="0 0.011730641825261 -0.129469656840417"
      rpy="0 0 0" />
    <parent
      link="leg2_right" />
    <child
      link="foot1_right" />
    <!-- <axis
      xyz="1 0 0" /> -->
    <axis
      xyz="1 0 0" />
    <dynamics
      damping="0.0"
      friction="0.0" />
  </joint>
  <link
    name="foot2_right">
    <inertial>
      <!-- <origin
        xyz="0.0069030606371967 -0.0385611288608892 0.0368864105375638"
        rpy="0 0 0" />
      <mass
        value="0.133904507779755" /> -->
      <!-- <inertia
        ixx="0.0001732330811679"
        ixy="-2.45904194210046E-06"
        ixz="-1.86270409287037E-06"
        iyy="0.000222022543722331"
        iyz="3.10162755525428E-06"
        izz="6.60854883669796E-05" /> -->
      <!-- <inertia
        ixx="0.000919188225"
        ixy="0"
        ixz="0"
        iyy="0.00132721812"
        iyz="0"
        izz="0.000488739105" /> -->
      <origin
        xyz="0.00644468610549209 -0.00115042641687507 -0.0360005503131604"
        rpy="0 0 0" />
      <mass
        value="0.143428639592448" />
      <inertia
        ixx="0.000141337401597565"
        ixy="8.13812964666709E-12"
        ixz="-9.05359254310782E-12"
        iyy="5.04596437658567E-05"
        iyz="-3.20375904544445E-07"
        izz="0.000183618474018626" />
    </inertial>
    <visual>
      <origin
        xyz="0 0 0"
        rpy="0 0 0" />
      <geometry>
        <mesh
          filename="./meshes/foot2_right.STL" />
      </geometry>
      <material
        name="">
        <color
          rgba="0.89875 0.91729 0.92982 1" />
      </material>
    </visual>
    <collision>
      <origin
        xyz="0 0 0"
        rpy="0 0 0" />
      <geometry>
        <mesh
          filename="./meshes/foot2_right.STL" />
      </geometry>
    </collision>
  </link>
  <joint
    name="joint_foot2_right"
    type="continuous">
    <!-- <origin
      xyz="-0.0265 -0.035971 0.0061902"
      rpy="1.753 0.0141 3.1487" /> -->
      <!--rpy="1.883 -0.9859 2.8787" put -1.08 into p-->
    <origin
      xyz="-0.0385989383789022 0 0"
      rpy="0 0 0" />
    <parent
      link="foot1_right" />
    <child
      link="foot2_right" />
    <!-- <axis
      xyz="0 0 1" /> -->
    <axis
      xyz="0 1 0" />
    <dynamics
      damping="0.0"
      friction="0.0" />
  </joint>
<!-- camera -->
  <!-- <link
    name="body_camera">
    <inertial>
      <origin
        xyz="-0.000405776775139921 -0.0107849933603513 0.0157740430047439"
        rpy="0 -1.5708 0" />
      <mass
        value="0.00912844677087833" />
      <inertia
        ixx="0"
        ixy="0"
        ixz="0"
        iyy="0"
        iyz="0"
        izz="0" />
    </inertial>
    <visual>
      <origin
        xyz="-0.000405776775139921 -0.0107849933603513 0.0157740430047439"
        rpy="0 -1.5708 0" />
      <geometry>
        <mesh
          filename="./meshes/body_camera.STL" />
      </geometry>
      <material
        name="">
        <color
          rgba="1 1 1 1" />
      </material>
    </visual>
    <collision>
      <origin
        xyz="-0.000405776775139921 -0.0107849933603513 0.0157740430047439"
        rpy="0 -1.5708 0" />
      <geometry>
        <mesh
          filename="./meshes/body_camera.STL" />
      </geometry>
    </collision>
  </link>
  <joint
    name="joint_body_camera"
    type="fixed">
    <origin
      xyz="-0.02015 -0.019786 -0.040504"
      rpy="1.1437 0 0" />
    <parent
      link="body_head2" />
    <child
      link="body_camera" />
    <axis
      xyz="-1 0 0" />
    <dynamics
      damping="0.0"
      friction="0.0" />
  </joint> -->
<!-- gazebo -->
  <!-- <gazebo reference="body_chest">
    <mu1>0.2</mu1>
    <mu2>0.2</mu2>
    <material>Gazebo/Gray</material>
  </gazebo>
  <gazebo reference="body_head">
    <mu1>0.2</mu1>
    <mu2>0.2</mu2>
    <material>Gazebo/Green</material>
  </gazebo>
  <gazebo reference="body_head2">
    <mu1>0.2</mu1>
    <mu2>0.2</mu2>
    <material>Gazebo/Green</material>
  </gazebo>
  <gazebo reference="arm_left">
    <mu1>0.2</mu1>
    <mu2>0.2</mu2>
    <material>Gazebo/Orange</material>
  </gazebo>
  <gazebo reference="hand_left">
    <mu1>0.2</mu1>
    <mu2>0.2</mu2>
    <material>Gazebo/Orange</material>
  </gazebo>
  <gazebo reference="arm_right">
    <mu1>0.2</mu1>
    <mu2>0.2</mu2>
    <material>Gazebo/Orange</material>
  </gazebo>
  <gazebo reference="hand_right">
    <mu1>0.2</mu1>
    <mu2>0.2</mu2>
    <material>Gazebo/Orange</material>
  </gazebo>
  <gazebo reference="body_hip">
    <mu1>0.2</mu1>
    <mu2>0.2</mu2>
    <material>Gazebo/Green</material>
  </gazebo>
  <gazebo reference="body_hip_left">
    <mu1>0.2</mu1>
    <mu2>0.2</mu2>
    <material>Gazebo/Black</material>
  </gazebo>
  <gazebo reference="body_hip2_left">
    <mu1>0.2</mu1>
    <mu2>0.2</mu2>
    <material>Gazebo/Black</material>
  </gazebo>
  <gazebo reference="leg_left">
    <mu1>0.2</mu1>
    <mu2>0.2</mu2>
    <material>Gazebo/Blue</material>
  </gazebo>
  <gazebo reference="leg2_left">
    <mu1>0.2</mu1>
    <mu2>0.2</mu2>
    <material>Gazebo/Blue</material>
  </gazebo>
  <gazebo reference="foot1_left">
    <mu1>0.2</mu1>
    <mu2>0.2</mu2>
    <material>Gazebo/Blue</material>
  </gazebo>
  <gazebo reference="foot2_left">
    <mu1>0.2</mu1>
    <mu2>0.2</mu2>
    <material>Gazebo/Blue</material>
  </gazebo>
  <gazebo reference="body_hip_right">
    <mu1>0.2</mu1>
    <mu2>0.2</mu2>
    <material>Gazebo/Black</material>
  </gazebo>
  <gazebo reference="body_hip2_right">
    <mu1>0.2</mu1>
    <mu2>0.2</mu2>
    <material>Gazebo/Black</material>
  </gazebo>
  <gazebo reference="leg_right">
    <mu1>0.2</mu1>
    <mu2>0.2</mu2>
    <material>Gazebo/Blue</material>
  </gazebo>
  <gazebo reference="leg2_right">
    <mu1>0.2</mu1>
    <mu2>0.2</mu2>
    <material>Gazebo/Blue</material>
  </gazebo>
  <gazebo reference="foot1_right">
    <mu1>0.2</mu1>
    <mu2>0.2</mu2>
     <material>Gazebo/Blue</material>
  </gazebo>
  <gazebo reference="foot2_right">
    <mu1>0.2</mu1>
    <mu2>0.2</mu2>
    <material>Gazebo/Blue</material>
  </gazebo> -->
  <!-- <gazebo reference="body_camera">
    <mu1>0.2</mu1>
    <mu2>0.2</mu2>
    <material>Gazebo/Red</material>
    <sensor type="camera" name="camera1">
      <always_on>1</always_on>
      <updateRate>30.0</updateRate>
      <visualize>true</visualize>
      <camera name="head">
        <horizontal_fov>1.3962634</horizontal_fov>
        <image>
          <width>800</width>
          <height>800</height>
          <format>R8G8B8</format>
        </image>
        <clip>
          <near>0.02</near>
          <far>300</far>
        </clip>
        <noise>
          <type>gaussian</type> -->
          <!-- Noise is sampled independently per pixel on each frame.
               That pixel's noise value is added to each of its color
               channels, which at that point lie in the range [0,1]. -->
          <!-- <mean>0.0</mean>
          <stddev>0.007</stddev>
        </noise>
      </camera>
      <plugin name="camera_controller" filename="libgazebo_ros_camera.so">
        <alwaysOn>true</alwaysOn>
        <updateRate>0.0</updateRate>
        <cameraName>dancer_urdf_model/camera</cameraName>
        <imageTopicName>image_raw</imageTopicName>
        <cameraInfoTopicName>camera_info</cameraInfoTopicName>
        <frameName>camera_link_optical</frameName>
        <hackBaseline>0.0</hackBaseline>
        <distortionK1>0.0</distortionK1>
        <distortionK2>0.0</distortionK2>
        <distortionK3>0.0</distortionK3>
        <distortionT1>0.0</distortionT1>
        <distortionT2>0.0</distortionT2>
        <CxPrime>0</CxPrime>
        <Cx>0.0</Cx>
        <Cy>0.0</Cy>
        <focalLength>0.0</focalLength>
      </plugin>
    </sensor>
  </gazebo> -->
<!-- transmission -->
  <!-- <gazebo>
    <plugin name="gazebo_ros_control" filename="libgazebo_ros_control.so">
      <robotNamespace>/dancer_urdf_model</robotNamespace>
      <robotSimType>gazebo_ros_control/DefaultRobotHWSim</robotSimType>
    </plugin>
  </gazebo>
  <transmission name="trans_body_head">
    <type>transmission_interface/SimpleTransmission</type>
    <joint name="joint_body_head">
      <hardwareInterface>hardware_interface/EffortJointInterface</hardwareInterface>
    </joint>
    <actuator name="motor_body_head">
      <mechanicalReduction>1</mechanicalReduction>
      <hardwareInterface>hardware_interface/EffortJointInterface</hardwareInterface>
    </actuator>
  </transmission>
  <transmission name="trans_body_head2">
    <type>transmission_interface/SimpleTransmission</type>
    <joint name="joint_body_head2">
      <hardwareInterface>hardware_interface/EffortJointInterface</hardwareInterface>
    </joint>
    <actuator name="motor_body_head2">
      <mechanicalReduction>1</mechanicalReduction>
      <hardwareInterface>hardware_interface/EffortJointInterface</hardwareInterface>
    </actuator>
  </transmission>
  <transmission name="trans_arm_left">
    <type>transmission_interface/SimpleTransmission</type>
    <joint name="joint_arm_left">
      <hardwareInterface>hardware_interface/EffortJointInterface</hardwareInterface>
    </joint>
    <actuator name="motor_arm_left">
      <mechanicalReduction>1</mechanicalReduction>
      <hardwareInterface>hardware_interface/EffortJointInterface</hardwareInterface>
    </actuator>
  </transmission>
  <transmission name="trans_hand_left">
    <type>transmission_interface/SimpleTransmission</type>
    <joint name="joint_hand_left">
      <hardwareInterface>hardware_interface/EffortJointInterface</hardwareInterface>
    </joint>
    <actuator name="motor_hand_left">
      <mechanicalReduction>1</mechanicalReduction>
      <hardwareInterface>hardware_interface/EffortJointInterface</hardwareInterface>
    </actuator>
  </transmission>
  <transmission name="trans_arm_right">
    <type>transmission_interface/SimpleTransmission</type>
    <joint name="joint_arm_right">
      <hardwareInterface>hardware_interface/EffortJointInterface</hardwareInterface>
    </joint>
    <actuator name="motor_arm_right">
      <mechanicalReduction>1</mechanicalReduction>
      <hardwareInterface>hardware_interface/EffortJointInterface</hardwareInterface>
    </actuator>
  </transmission>
  <transmission name="trans_hand_right">
    <type>transmission_interface/SimpleTransmission</type>
    <joint name="joint_hand_right">
      <hardwareInterface>hardware_interface/EffortJointInterface</hardwareInterface>
    </joint>
    <actuator name="motor_hand_right">
      <mechanicalReduction>1</mechanicalReduction>
      <hardwareInterface>hardware_interface/EffortJointInterface</hardwareInterface>
    </actuator>
  </transmission>
  <transmission name="trans_body_hip">
    <type>transmission_interface/SimpleTransmission</type>
    <joint name="joint_body_hip">
      <hardwareInterface>hardware_interface/EffortJointInterface</hardwareInterface>
    </joint>
    <actuator name="motor_body_hip">
      <mechanicalReduction>1</mechanicalReduction>
      <hardwareInterface>hardware_interface/EffortJointInterface</hardwareInterface>
    </actuator>
  </transmission>
  <transmission name="trans_body_hip_left">
    <type>transmission_interface/SimpleTransmission</type>
    <joint name="joint_body_hip_left">
      <hardwareInterface>hardware_interface/EffortJointInterface</hardwareInterface>
    </joint>
    <actuator name="motor_body_hip_left">
      <mechanicalReduction>1</mechanicalReduction>
      <hardwareInterface>hardware_interface/EffortJointInterface</hardwareInterface>
    </actuator>
  </transmission>
  <transmission name="trans_body_hip2_left">
    <type>transmission_interface/SimpleTransmission</type>
    <joint name="joint_body_hip2_left">
      <hardwareInterface>hardware_interface/EffortJointInterface</hardwareInterface>
    </joint>
    <actuator name="motor_body_hip2_left">
      <mechanicalReduction>1</mechanicalReduction>
      <hardwareInterface>hardware_interface/EffortJointInterface</hardwareInterface>
    </actuator>
  </transmission>
  <transmission name="trans_leg_left">
    <type>transmission_interface/SimpleTransmission</type>
    <joint name="joint_leg_left">
      <hardwareInterface>hardware_interface/EffortJointInterface</hardwareInterface>
    </joint>
    <actuator name="motor_leg_left">
      <mechanicalReduction>1</mechanicalReduction>
      <hardwareInterface>hardware_interface/EffortJointInterface</hardwareInterface>
    </actuator>
  </transmission>
  <transmission name="trans_leg2_left">
    <type>transmission_interface/SimpleTransmission</type>
    <joint name="joint_leg2_left">
      <hardwareInterface>hardware_interface/EffortJointInterface</hardwareInterface>
    </joint>
    <actuator name="motor_leg2_left">
      <mechanicalReduction>1</mechanicalReduction>
      <hardwareInterface>hardware_interface/EffortJointInterface</hardwareInterface>
    </actuator>
  </transmission>
  <transmission name="trans_foot1_left">
    <type>transmission_interface/SimpleTransmission</type>
    <joint name="joint_foot1_left">
      <hardwareInterface>hardware_interface/EffortJointInterface</hardwareInterface>
    </joint>
    <actuator name="motor_foot1_left">
      <mechanicalReduction>1</mechanicalReduction>
      <hardwareInterface>hardware_interface/EffortJointInterface</hardwareInterface>
    </actuator>
  </transmission>
  <transmission name="trans_foot2_left">
    <type>transmission_interface/SimpleTransmission</type>
    <joint name="joint_foot2_left">
      <hardwareInterface>hardware_interface/EffortJointInterface</hardwareInterface>
    </joint>
    <actuator name="motor_foot2_left">
      <mechanicalReduction>1</mechanicalReduction>
      <hardwareInterface>hardware_interface/EffortJointInterface</hardwareInterface>
    </actuator>
  </transmission>
  <transmission name="trans_body_hip_right">
    <type>transmission_interface/SimpleTransmission</type>
    <joint name="joint_body_hip_right">
      <hardwareInterface>hardware_interface/EffortJointInterface</hardwareInterface>
    </joint>
    <actuator name="motor_body_hip_right">
      <mechanicalReduction>1</mechanicalReduction>
      <hardwareInterface>hardware_interface/EffortJointInterface</hardwareInterface>
    </actuator>
  </transmission>
  <transmission name="trans_body_hip2_right">
    <type>transmission_interface/SimpleTransmission</type>
    <joint name="joint_body_hip2_right">
      <hardwareInterface>hardware_interface/EffortJointInterface</hardwareInterface>
    </joint>
    <actuator name="motor_body_hip2_right">
      <mechanicalReduction>1</mechanicalReduction>
      <hardwareInterface>hardware_interface/EffortJointInterface</hardwareInterface>
    </actuator>
  </transmission>
  <transmission name="trans_leg_right">
    <type>transmission_interface/SimpleTransmission</type>
    <joint name="joint_leg_right">
      <hardwareInterface>hardware_interface/EffortJointInterface</hardwareInterface>
    </joint>
    <actuator name="motor_leg_right">
      <mechanicalReduction>1</mechanicalReduction>
      <hardwareInterface>hardware_interface/EffortJointInterface</hardwareInterface>
    </actuator>
  </transmission>
  <transmission name="trans_leg2_right">
    <type>transmission_interface/SimpleTransmission</type>
    <joint name="joint_leg2_right">
      <hardwareInterface>hardware_interface/EffortJointInterface</hardwareInterface>
    </joint>
    <actuator name="motor_leg2_right">
      <mechanicalReduction>1</mechanicalReduction>
      <hardwareInterface>hardware_interface/EffortJointInterface</hardwareInterface>
    </actuator>
  </transmission>
  <transmission name="trans_foot1_right">
    <type>transmission_interface/SimpleTransmission</type>
    <joint name="joint_foot1_right">
      <hardwareInterface>hardware_interface/EffortJointInterface</hardwareInterface>
    </joint>
    <actuator name="motor_foot1_right">
      <mechanicalReduction>1</mechanicalReduction>
      <hardwareInterface>hardware_interface/EffortJointInterface</hardwareInterface>
    </actuator>
  </transmission>
  <transmission name="trans_foot2_right">
    <type>transmission_interface/SimpleTransmission</type>
    <joint name="joint_foot2_right">
      <hardwareInterface>hardware_interface/EffortJointInterface</hardwareInterface>
    </joint>
    <actuator name="motor_foot2_right">
      <mechanicalReduction>1</mechanicalReduction>
      <hardwareInterface>hardware_interface/EffortJointInterface</hardwareInterface>
    </actuator>
  </transmission> -->
</robot>
